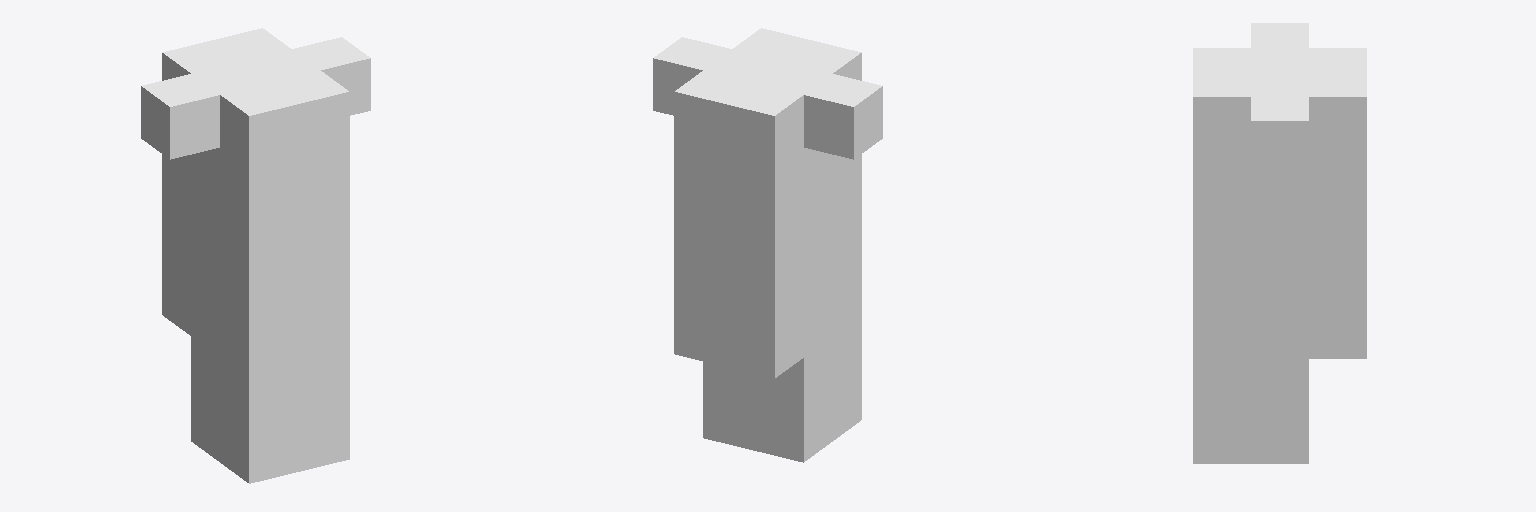
The model's file is Protagonist.obj.
3 renders of one model, left to right at view 1: azimuth 30°, elevation 25°; view 2: azimuth 150°, elevation 25°; view 3: azimuth 270°, elevation 25°, orthographic.
Size of the model in its own units: 4 by 7 by 3.